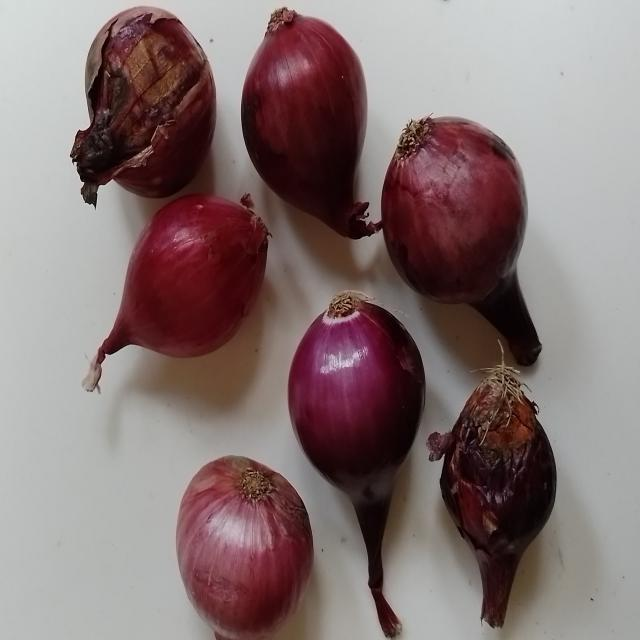Onion: (289, 294, 425, 638), (383, 116, 543, 366), (242, 8, 381, 238), (96, 194, 269, 364), (70, 6, 216, 204), (177, 457, 313, 640)
